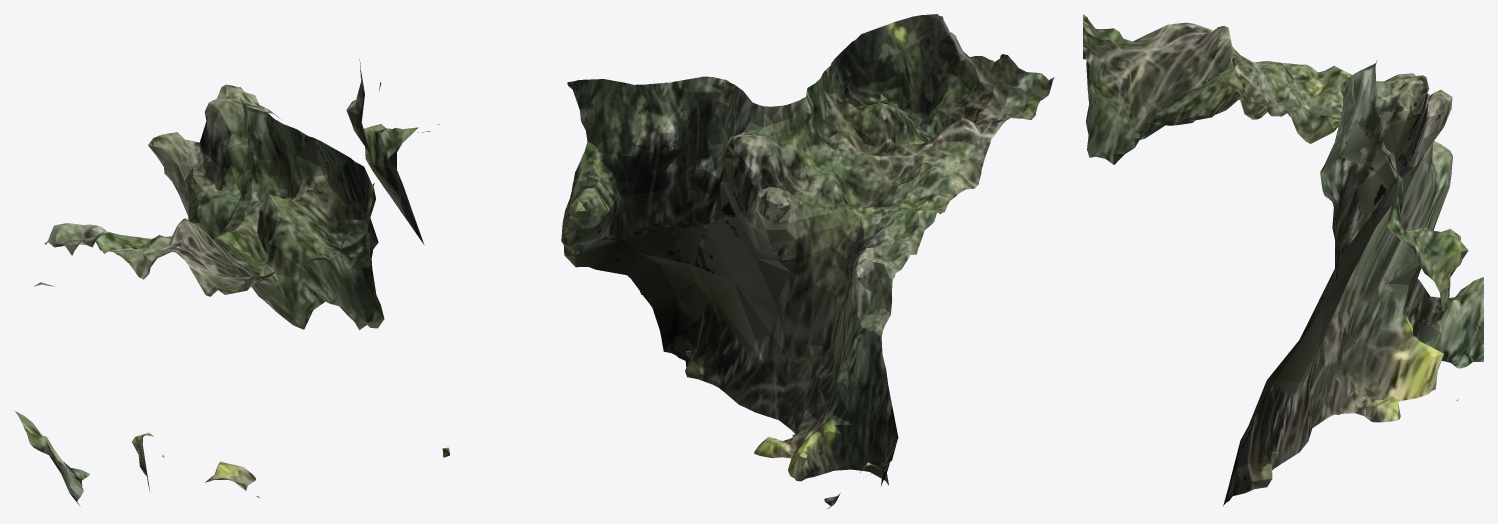
3 renders of one model, left to right at view 1: azimuth 30°, elevation 25°; view 2: azimuth 150°, elevation 25°; view 3: azimuth 270°, elevation 25°, orthographic. The views are drawn at different scales.
Bounding box in the file's own units: 2.95 × 2.95 × 2.95.
4 materials, 4 textured.
